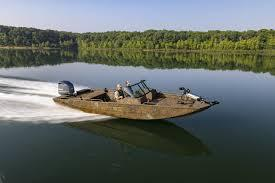fishing boat: (52, 75, 224, 121)
